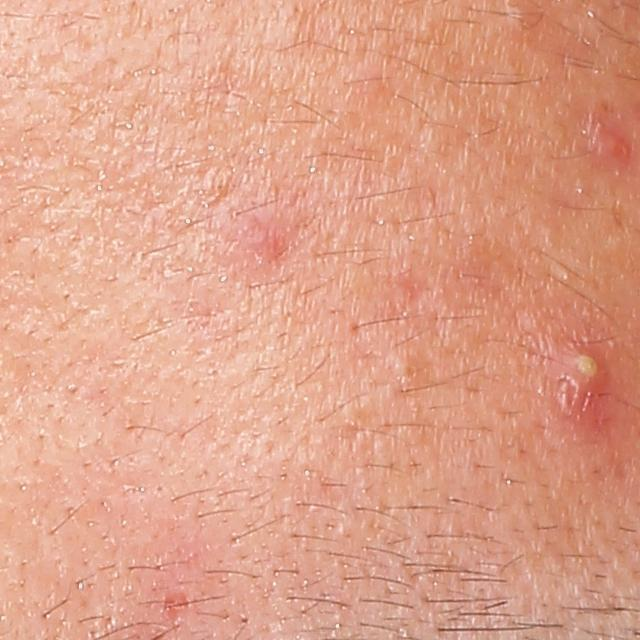comedo: (377, 349, 428, 405)
papule: (217, 202, 290, 265), (584, 113, 634, 164)
pustule: (534, 330, 627, 435)
